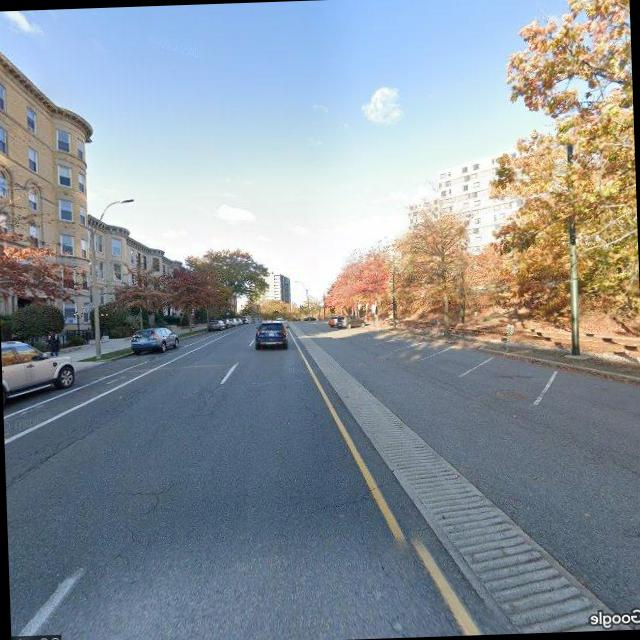crack: (302, 486, 389, 514)
